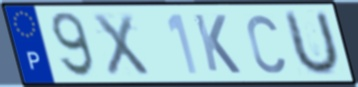1: (165, 12, 199, 75)
9: (48, 10, 97, 79)
C: (244, 12, 287, 75)
K: (191, 12, 244, 76)
U: (283, 9, 342, 78)
X: (90, 11, 153, 78)
